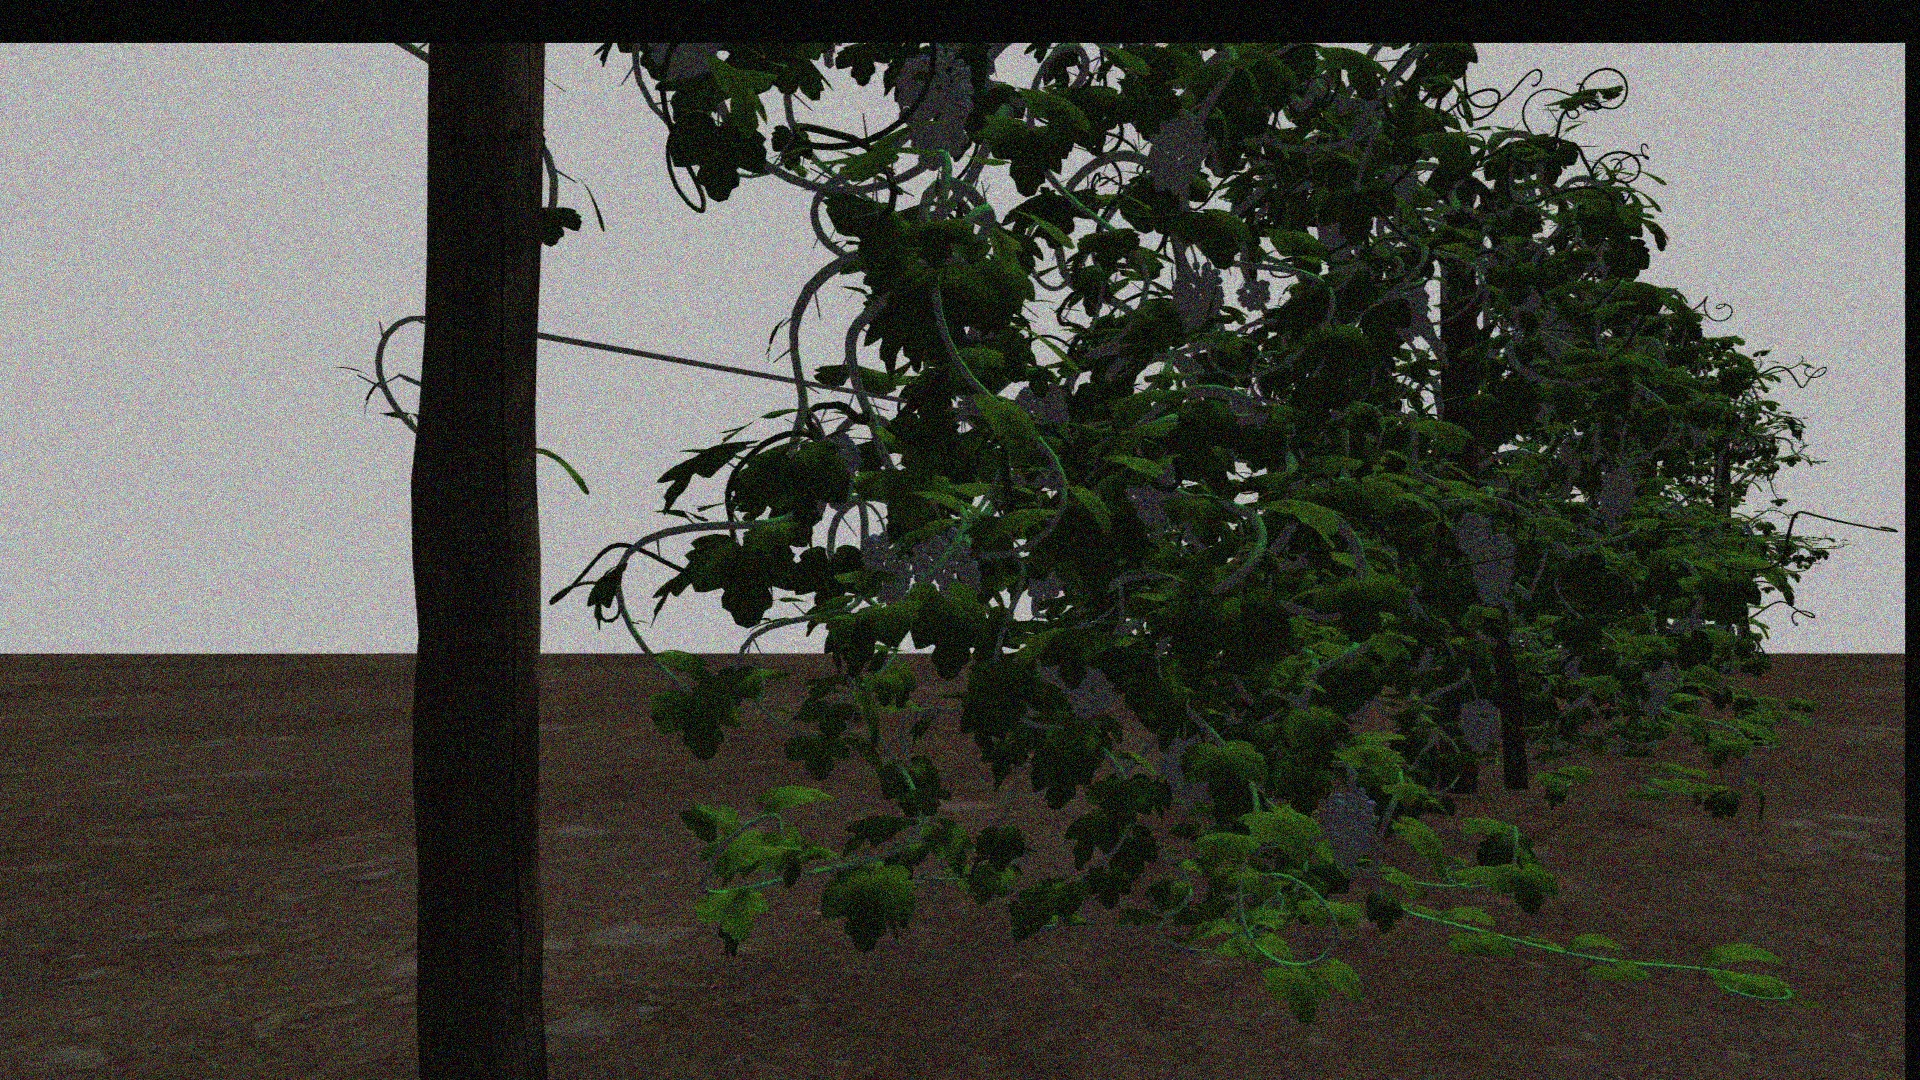grape: (897, 53, 975, 170), (1315, 785, 1382, 880), (910, 526, 982, 600), (1145, 112, 1208, 196), (1170, 257, 1226, 330), (862, 529, 913, 605), (1160, 737, 1211, 808), (1473, 539, 1515, 607), (1593, 464, 1636, 526), (1457, 698, 1499, 756), (1636, 658, 1673, 717), (1455, 510, 1487, 555), (1237, 277, 1271, 310)
